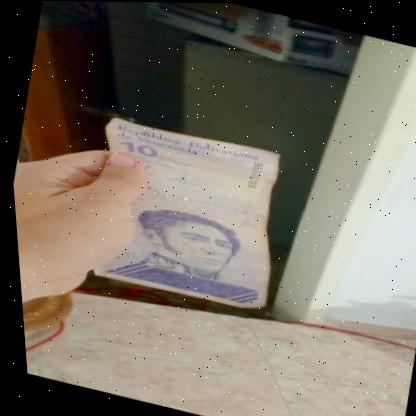vef_front: (71, 113, 298, 315)
